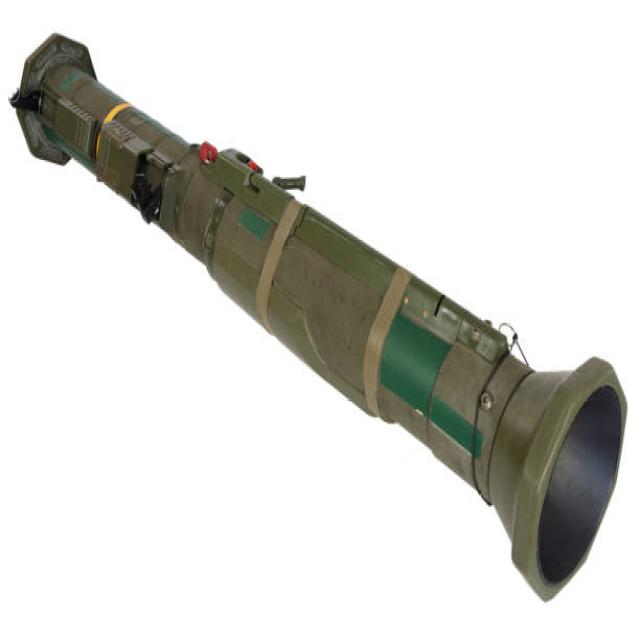bazooka: (1, 28, 633, 614)
